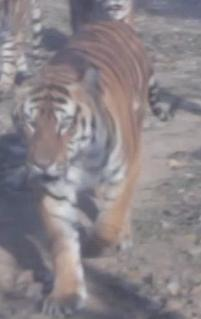tiger: (14, 0, 164, 310)
